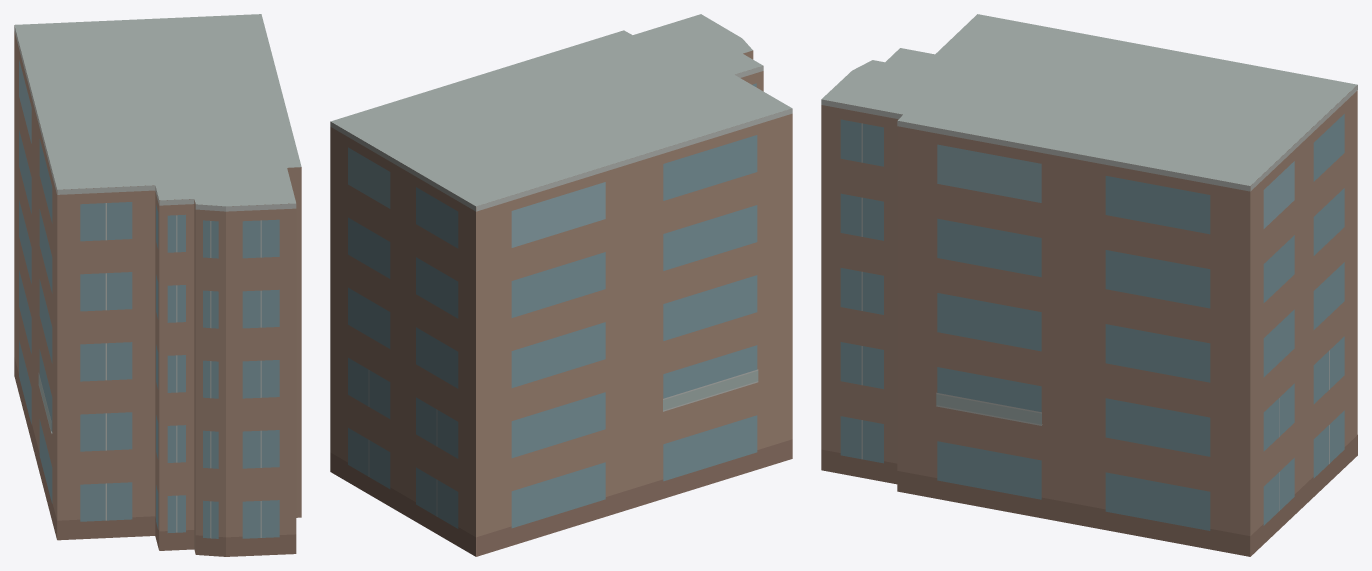
The model's file is survey-upis-32534064.glb.
3 views of the same model, side by side, from view 1: azimuth 30°, elevation 25°; view 2: azimuth 150°, elevation 25°; view 3: azimuth 270°, elevation 25° (orthographic). The views are drawn at different scales.
Visible parts, largest first — view 1: survey-upis-32534064.tmp; view 2: survey-upis-32534064.tmp; view 3: survey-upis-32534064.tmp.
Boxes of the visible parts, x1,y1,x2,y2 form: survey-upis-32534064.tmp: (14, 14, 301, 556); survey-upis-32534064.tmp: (330, 14, 792, 556); survey-upis-32534064.tmp: (821, 14, 1357, 556).
Size of the model in its own units: 16.38 by 16.45 by 21.58.
